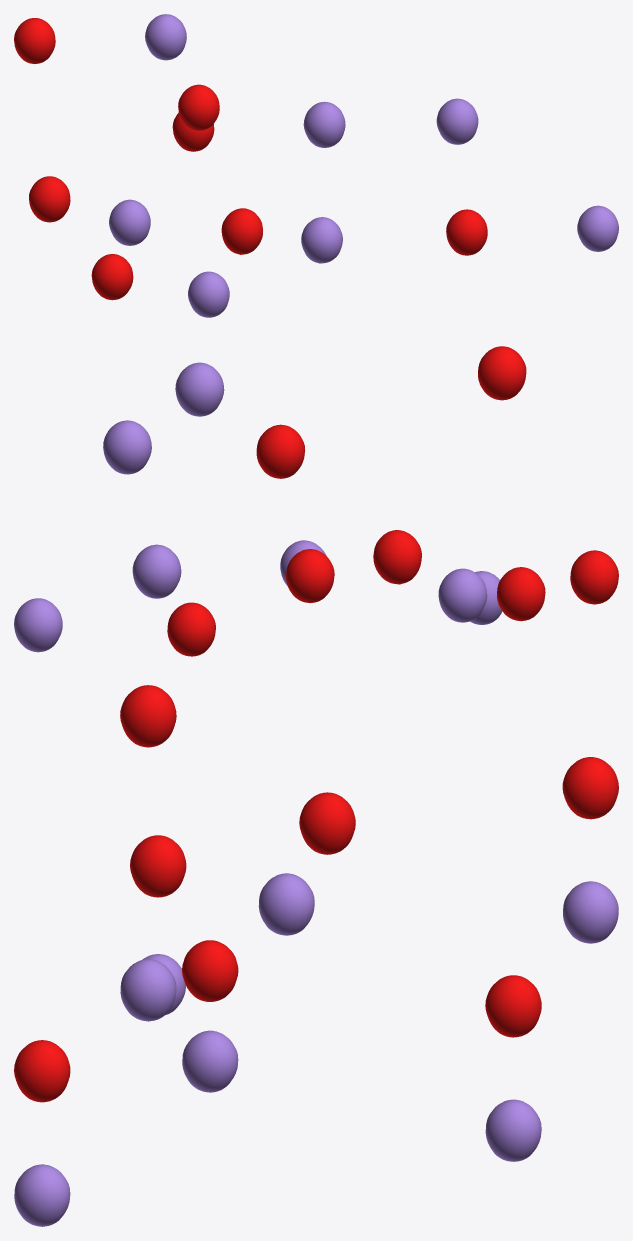
Rendered from ballontozap2.fbx.
3 renders of one model, top to bottom at view 1: azimuth 30°, elevation 25°; view 2: azimuth 150°, elevation 25°; view 3: azimuth 270°, elevation 25°, orthographic. The views are drawn at different scales.
Visible parts, largest first — view 1: pCone22, pCone24, pCone19, pCone27, pCone20, pCone25, pCone26, pCone23, pCone16, pCone15, pCone21, pCone14 (+2 smaller); view 2: pCone19, pCone18, pCone17, pCone21, pCone15, pCone27, pCone14, pCone25, pCone26, pCone16, pCone23, pCone20 (+2 smaller); view 3: pCone25, pCone18, pCone23, pCone14, pCone16, pCone26, pCone21, pCone20, pCone17, pCone27, pCone15, pCone22 (+1 smaller).
Part boxes in pixels (bbox=[...]): pCone22: bbox=[301, 217, 342, 263]; pCone24: bbox=[188, 271, 229, 317]; pCone19: bbox=[221, 208, 262, 254]; pCone27: bbox=[109, 199, 150, 245]; pCone20: bbox=[446, 209, 487, 255]; pCone25: bbox=[436, 98, 478, 144]; pCone26: bbox=[145, 14, 186, 60]; pCone23: bbox=[303, 101, 345, 147]; pCone16: bbox=[178, 84, 219, 130]; pCone15: bbox=[14, 18, 55, 63]; pCone21: bbox=[577, 205, 618, 251]; pCone14: bbox=[29, 176, 70, 222]; pCone19: bbox=[373, 530, 421, 584]; pCone18: bbox=[167, 602, 215, 656]; pCone17: bbox=[570, 550, 618, 604]; pCone21: bbox=[103, 420, 151, 474]; pCone15: bbox=[286, 549, 334, 603]; pCone27: bbox=[438, 568, 487, 622]; pCone14: bbox=[497, 567, 545, 621]; pCone25: bbox=[175, 362, 224, 416]; pCone26: bbox=[132, 544, 181, 598]; pCone16: bbox=[478, 346, 526, 400]; pCone23: bbox=[14, 598, 62, 652]; pCone20: bbox=[256, 424, 305, 478]; pCone25: bbox=[120, 959, 176, 1021]; pCone18: bbox=[485, 975, 541, 1037]; pCone23: bbox=[485, 1099, 541, 1161]; pCone14: bbox=[299, 792, 355, 854]; pCone16: bbox=[120, 685, 176, 747]; pCone26: bbox=[563, 881, 618, 943]; pCone21: bbox=[14, 1164, 70, 1226]; pCone20: bbox=[14, 1040, 70, 1102]; pCone17: bbox=[130, 835, 186, 897]; pCone27: bbox=[258, 873, 314, 935]; pCone15: bbox=[562, 757, 618, 819]; pCone22: bbox=[182, 1030, 238, 1092].
Bounding box in the file's own units: 7.3 × 3.45 × 5.93.
Materials: 2 (2 with a texture image).
